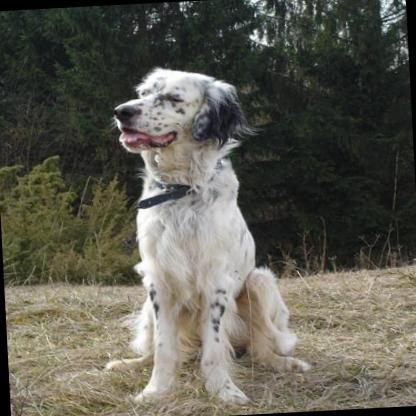English_setter: (84, 58, 311, 411)
